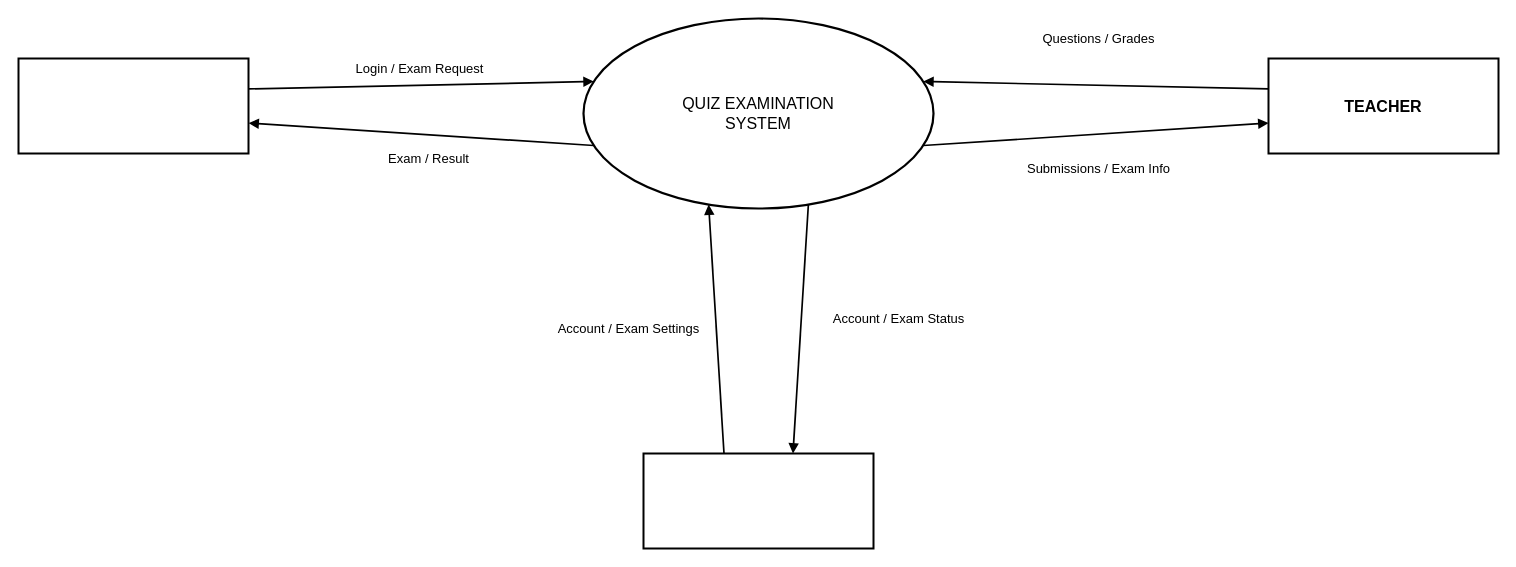
Some shapes in this 1516 by 567 pixel diagram are drawn without their labels. Each missing label, with the box of its shape:
ADMINISTRATOR: (642, 452, 874, 549)
STUDENT: (17, 57, 249, 154)
